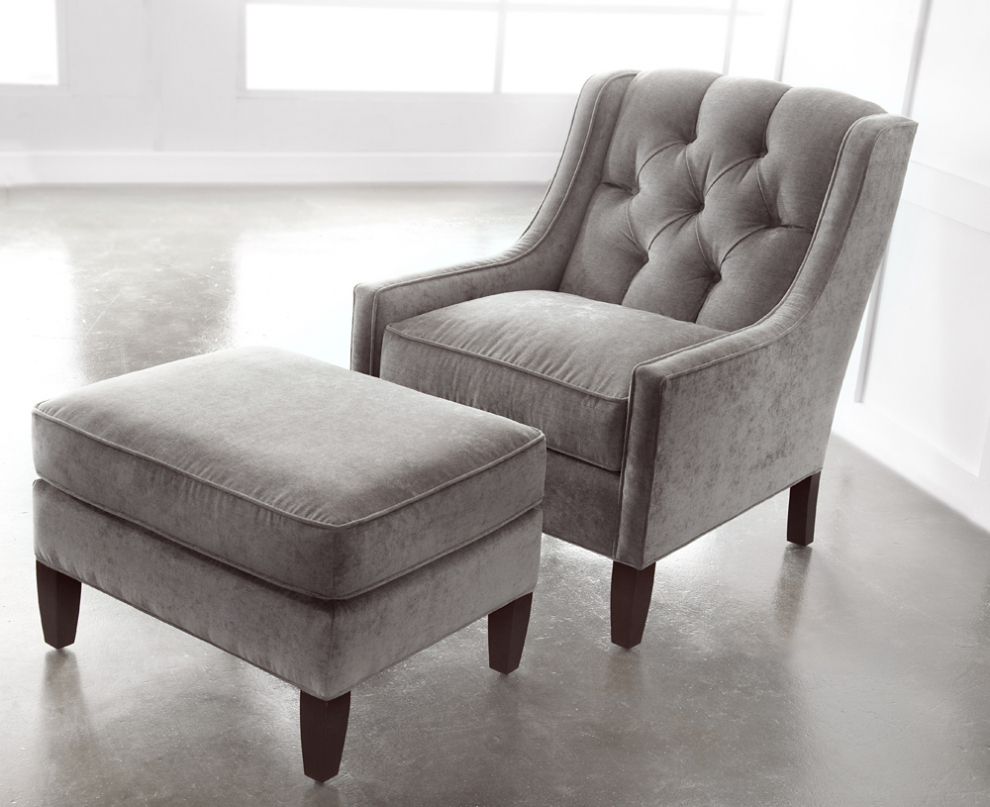chairs: (349, 68, 917, 653), (11, 342, 551, 791)
